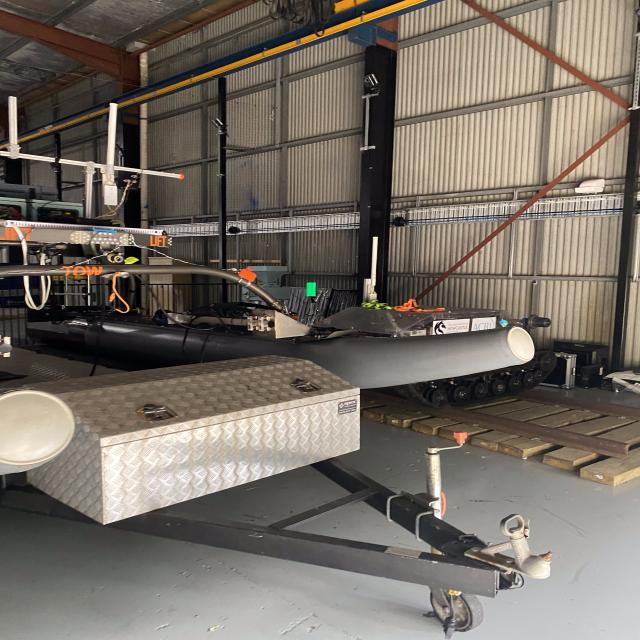matrix: (302, 278, 318, 300)
